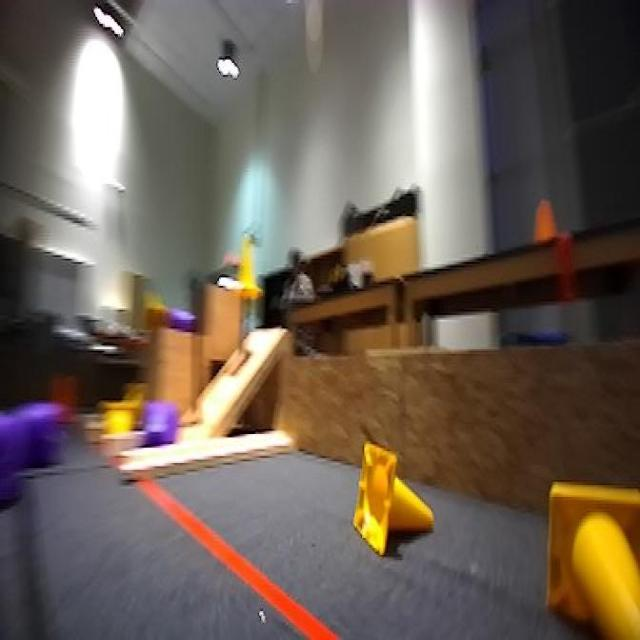frc_cone: (538, 490, 640, 640), (352, 441, 417, 553), (235, 235, 268, 305), (98, 398, 141, 439)
frc_cube: (0, 412, 31, 502), (26, 400, 62, 465), (159, 294, 196, 337), (141, 397, 171, 446)
